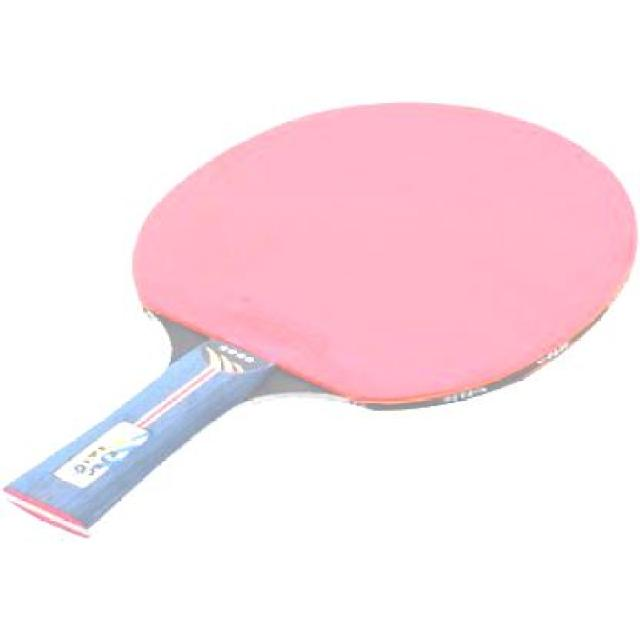table_tennis_racket: (116, 91, 638, 422)
